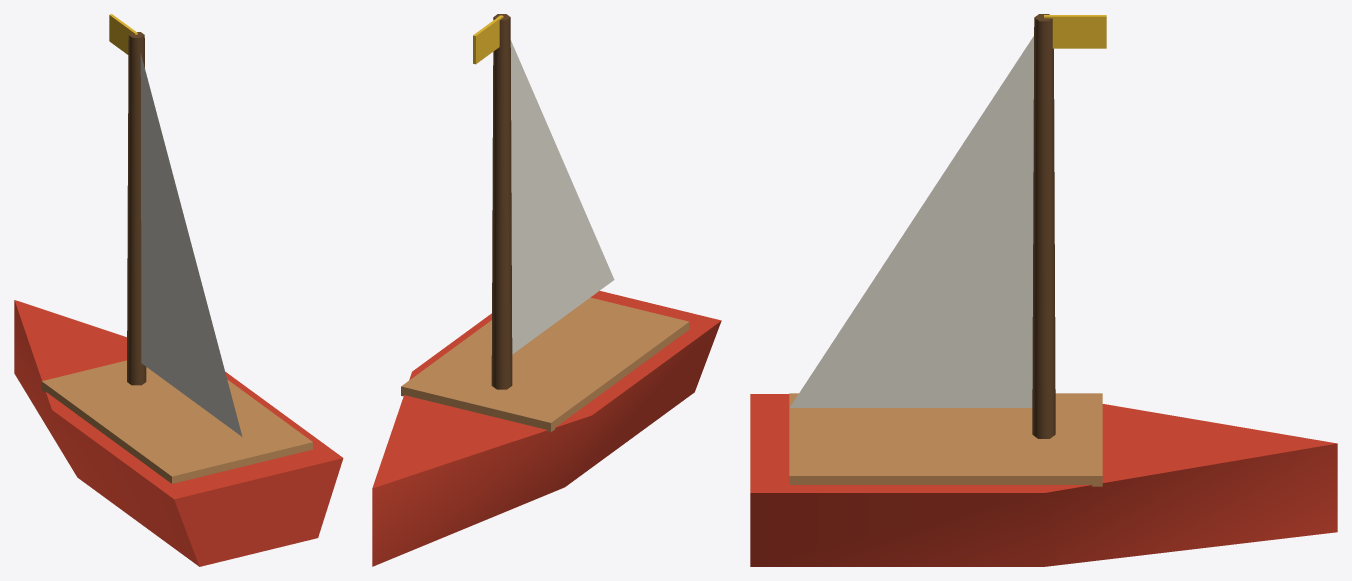
File: boot.glb
The picture shows the model from 3 angles, left to right: view 1: azimuth 30°, elevation 25°; view 2: azimuth 150°, elevation 25°; view 3: azimuth 270°, elevation 25°; orthographic projection. The views are drawn at different scales.
Visible parts, largest first — view 1: rumpf, deck, segel, mast, flagge; view 2: rumpf, deck, segel, mast, flagge; view 3: rumpf, segel, deck, mast, flagge.
Boxes of the visible parts, box(x1,y1,x2,y2) form: rumpf: box(14, 300, 343, 566); deck: box(41, 360, 312, 483); segel: box(140, 53, 242, 436); mast: box(127, 32, 146, 385); flagge: box(109, 14, 137, 54); rumpf: box(372, 291, 721, 566); deck: box(401, 297, 689, 432); segel: box(510, 40, 614, 354); mast: box(491, 14, 512, 389); flagge: box(473, 15, 503, 64); rumpf: box(750, 394, 1337, 566); segel: box(789, 36, 1033, 407); deck: box(789, 393, 1102, 486); mast: box(1032, 14, 1055, 438); flagge: box(1044, 15, 1106, 48).
Size of the model in its own units: 1.2 by 2.91 by 3.
